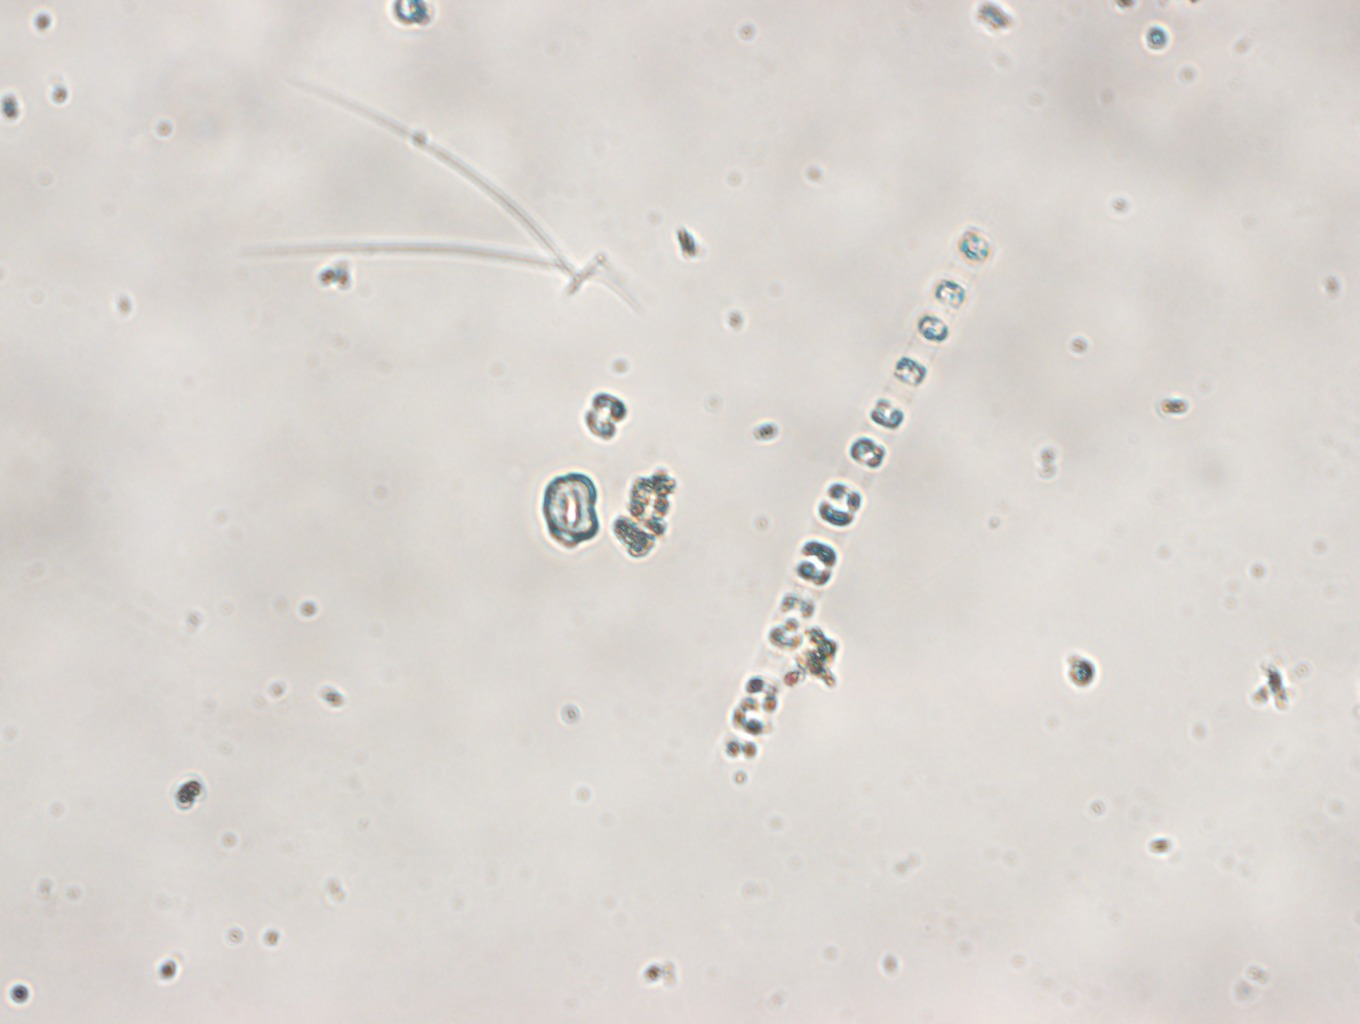chaetoceros: (289, 91, 668, 316)
skeletonema: (721, 217, 1006, 778)
